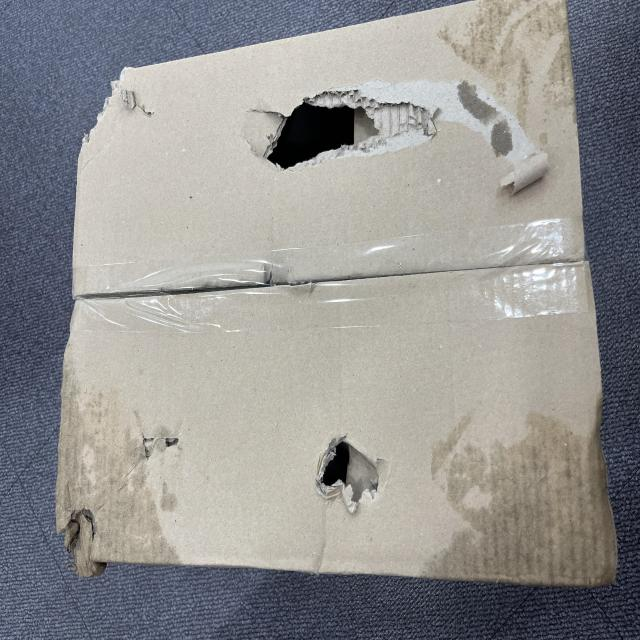wet: (70, 71, 200, 228), (44, 565, 171, 640)
